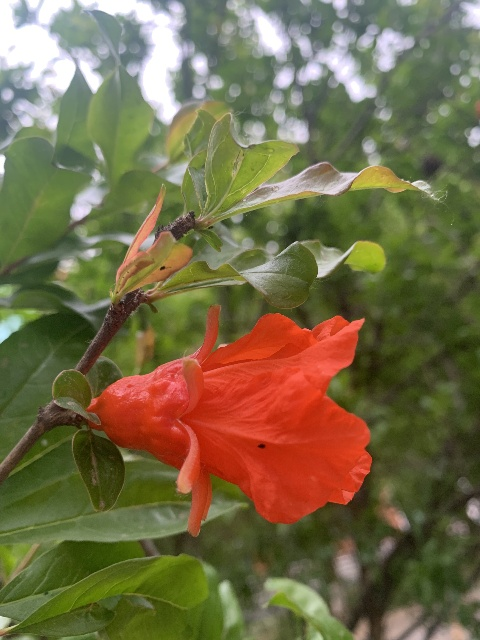flower: (89, 303, 372, 534)
